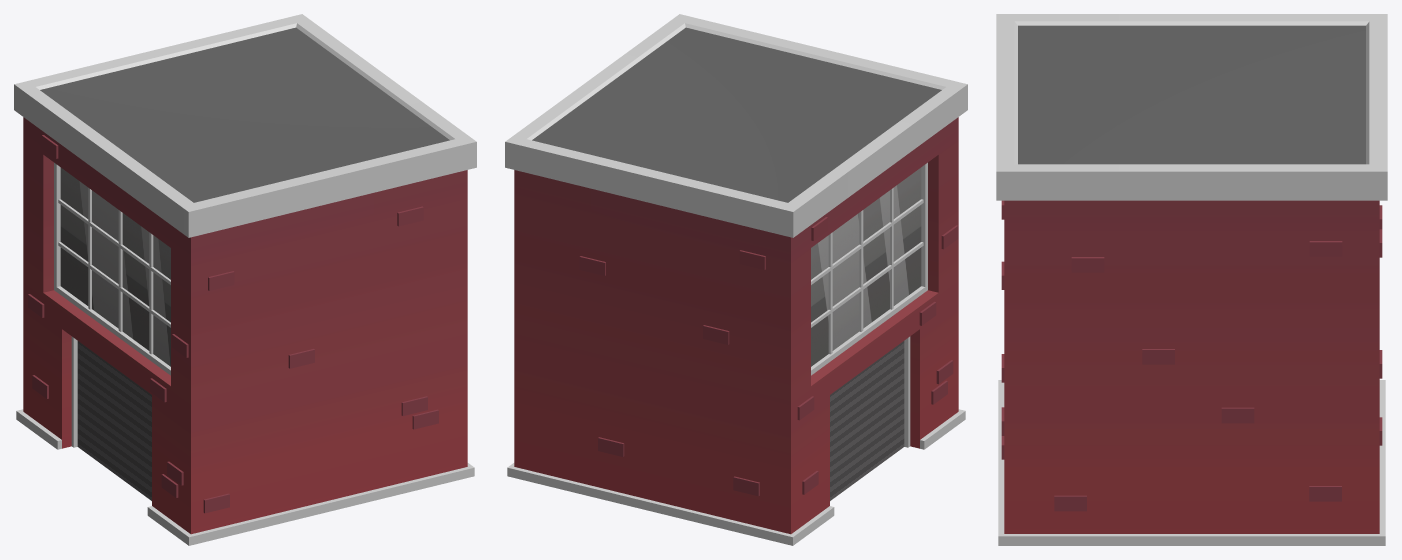
File: Building_10_I.fbx
3 views of the same model, side by side, from view 1: azimuth 30°, elevation 25°; view 2: azimuth 150°, elevation 25°; view 3: azimuth 270°, elevation 25° (orthographic). The views are drawn at different scales.
Parts seen in each view (by area): view 1: Building_10_I; view 2: Building_10_I; view 3: Building_10_I.
Boxes of the visible parts, x1,y1,x2,y2 form: Building_10_I: (14,14,476,545); Building_10_I: (505,14,967,545); Building_10_I: (996,14,1387,545).
Size of the model in its own units: 526 by 584 by 552.
